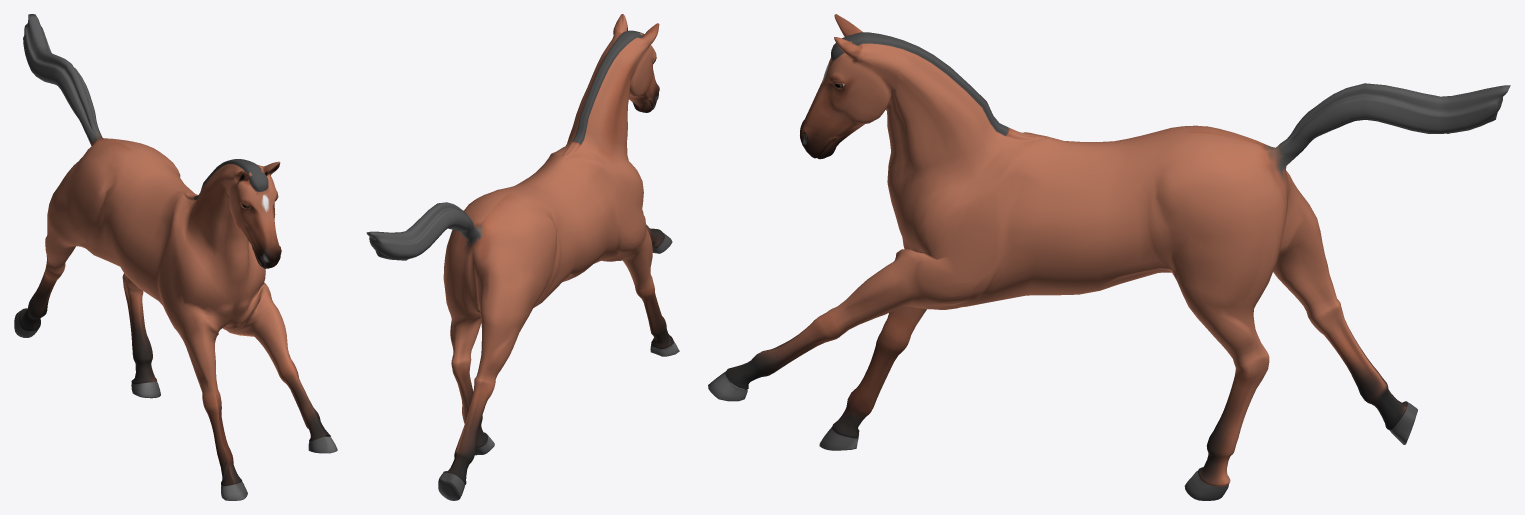
The model's file is horse_obj_11.obj.
3 views of the same model, side by side, from view 1: azimuth 30°, elevation 25°; view 2: azimuth 150°, elevation 25°; view 3: azimuth 270°, elevation 25° (orthographic). The views are drawn at different scales.
Visible parts, largest first — view 1: Figure_1; view 2: Figure_1; view 3: Figure_1.
Boxes of the visible parts, x1,y1,x2,y2 form: Figure_1: [14, 14, 337, 500]; Figure_1: [366, 14, 679, 500]; Figure_1: [708, 14, 1510, 500].
Bounding box in the file's own units: 0.2421 × 0.8322 × 1.33.
Materials: 7 (7 with a texture image).
